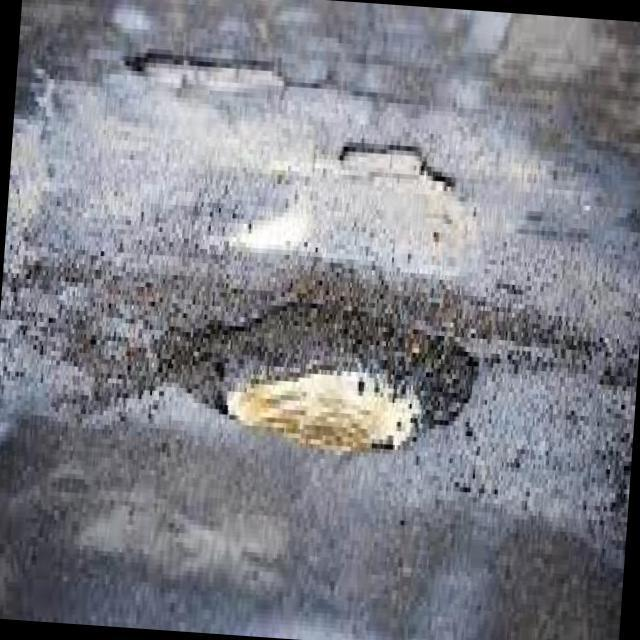Pothole: (152, 301, 477, 450), (340, 145, 449, 191)
